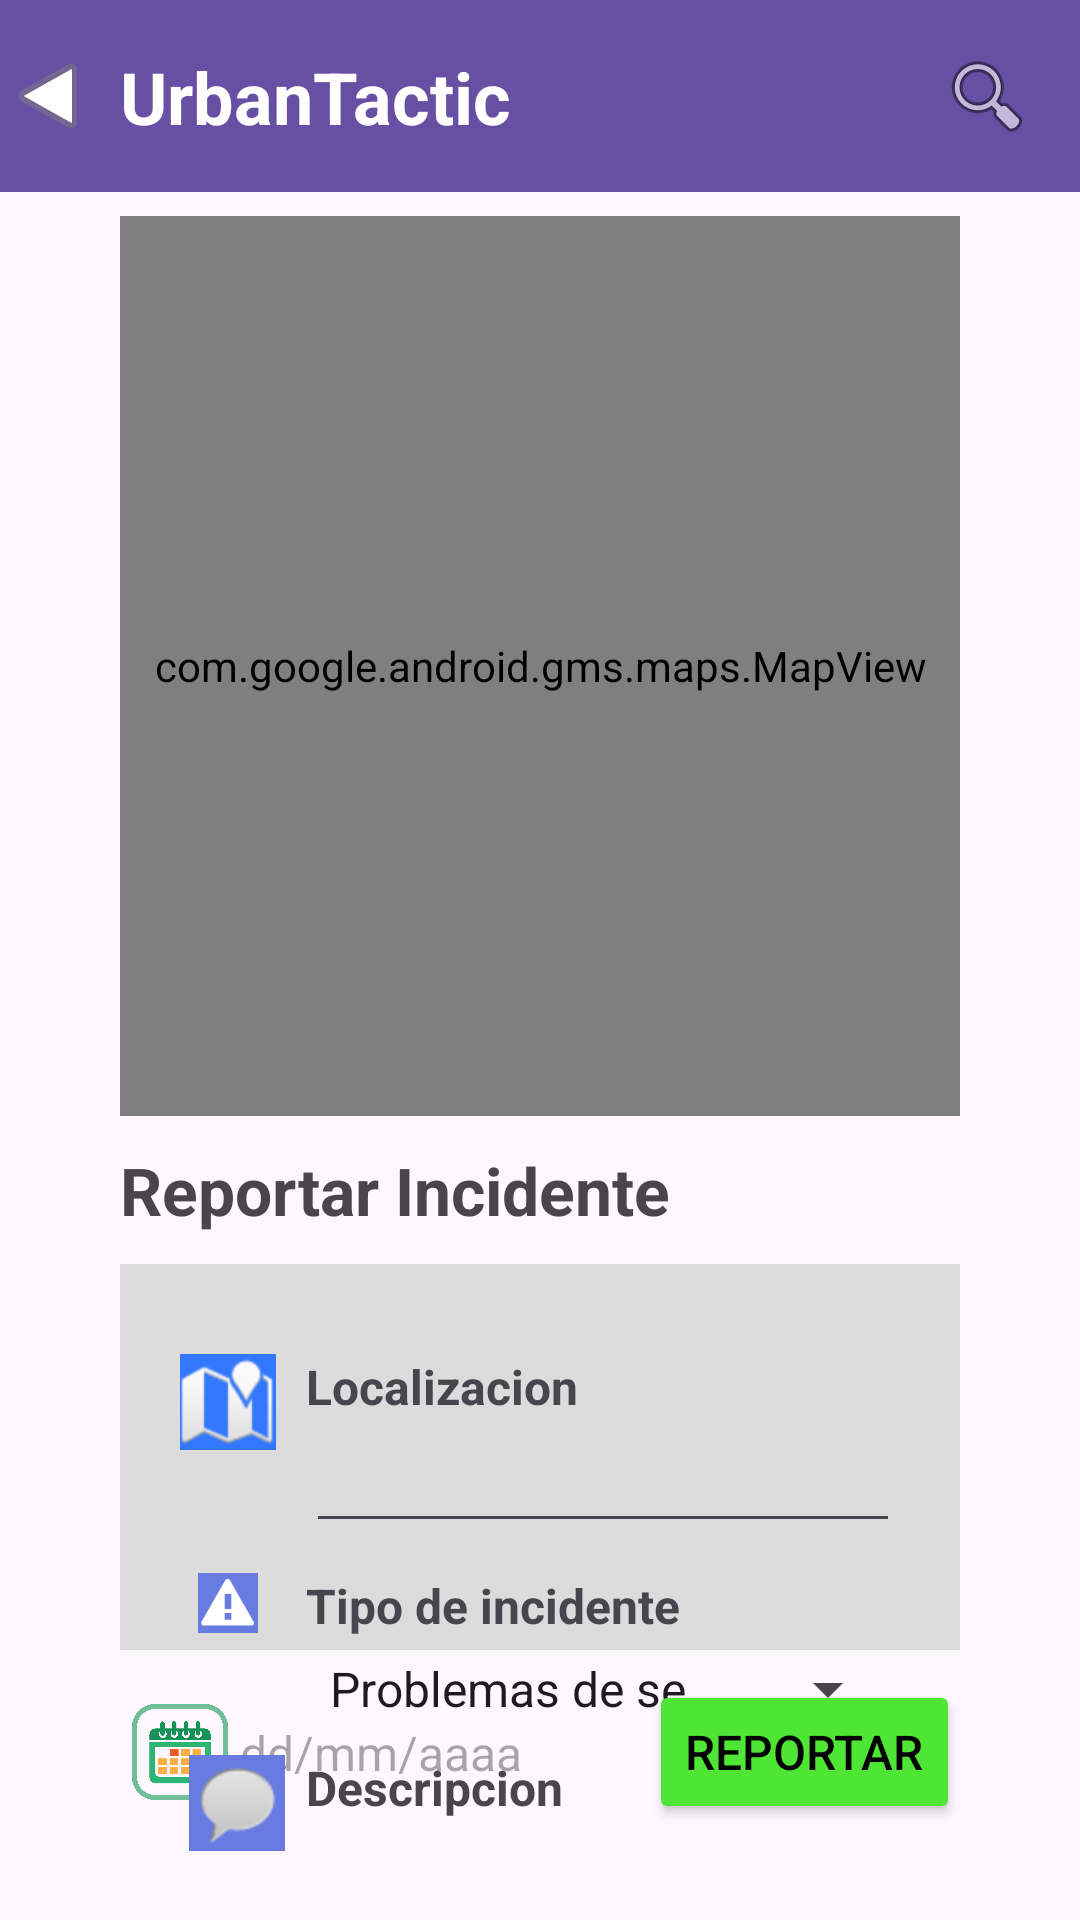

Named icons in this screenshot (1080w x 1920h) and their bounding boxes, (x1=x1, y1=y1, x2=x2, y2=y2):
map: (x1=180, y1=1354, x2=276, y2=1450)
search: (x1=952, y1=61, x2=1022, y2=132)
sym action chat: (x1=189, y1=1755, x2=285, y2=1851)
warning: (x1=198, y1=1573, x2=258, y2=1633)
